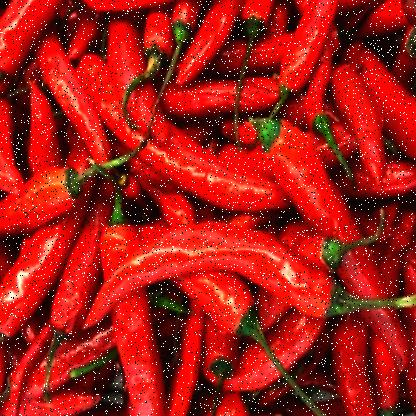chili: (3, 0, 412, 406)
